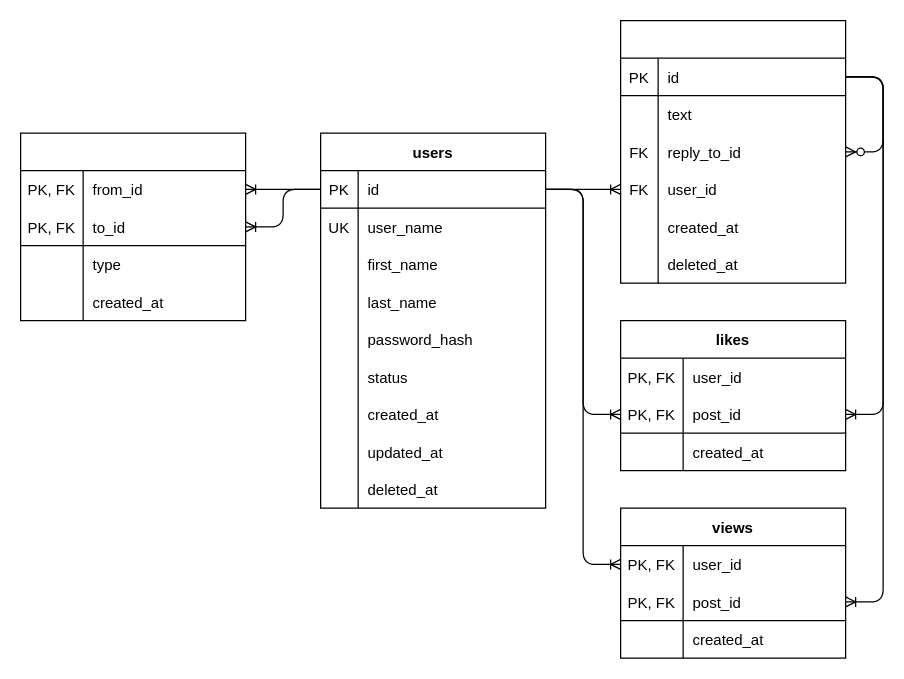
The diagram is 904 pixels wide and 679 high, and some of its shapes have lost their labels. Here are the shapes that lost their labels. From the top down, the box of each, then its label:
(619, 19, 846, 283): posts
(19, 132, 246, 321): relations
